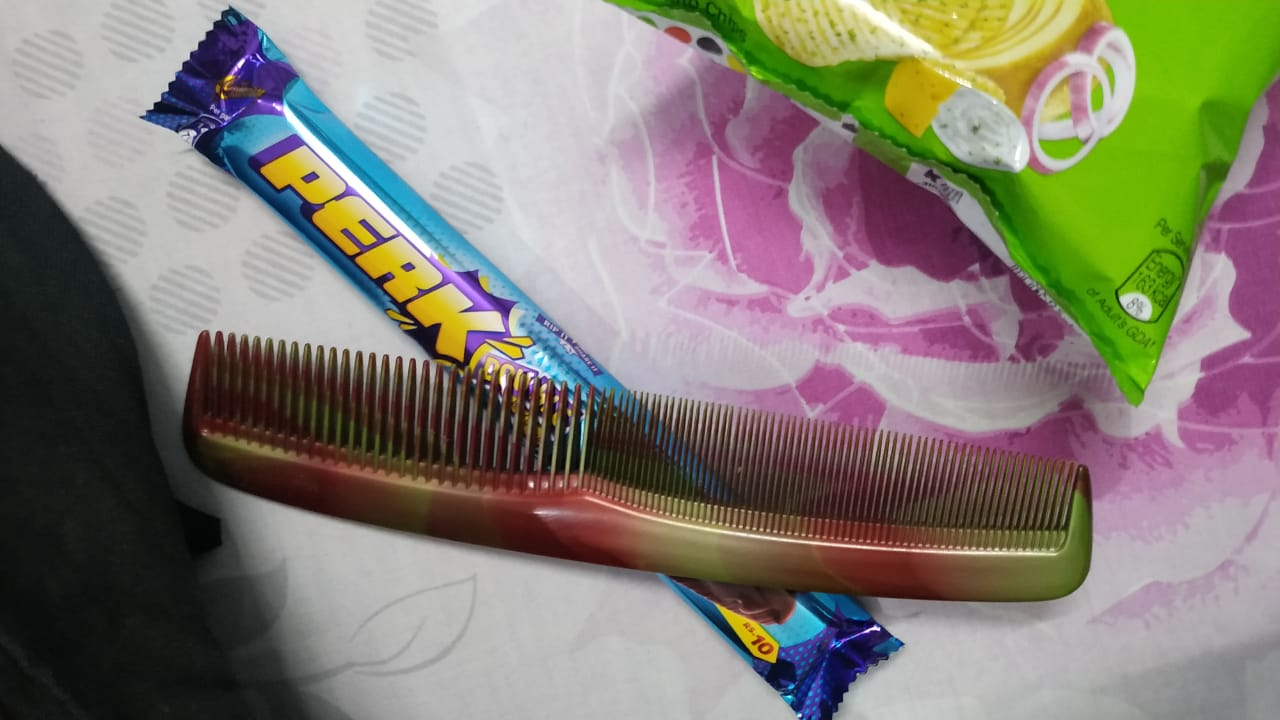perk: (147, 8, 911, 707)
